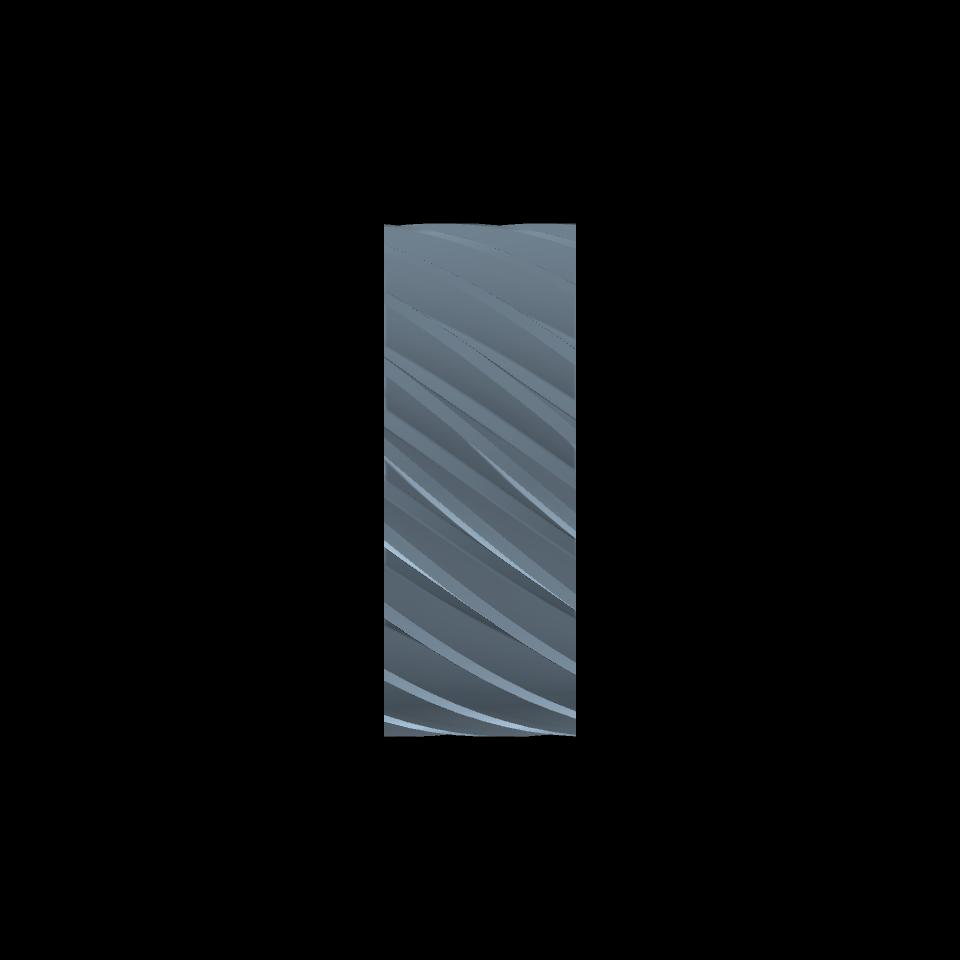Helical: (384, 223, 575, 737)
